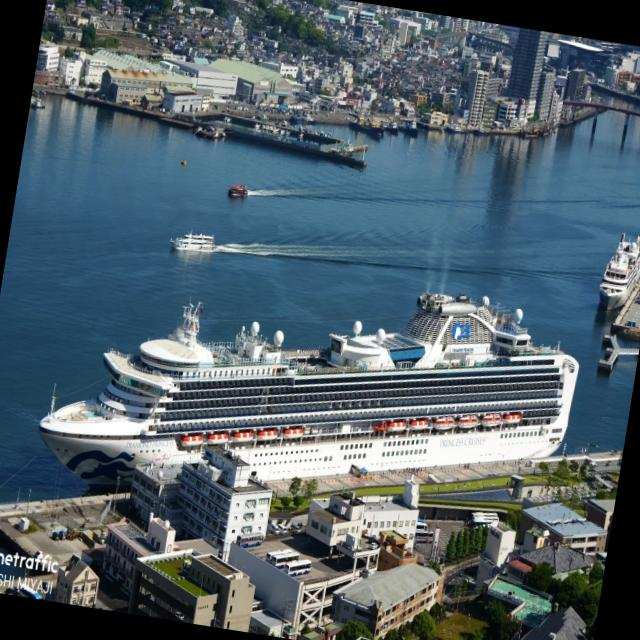Cruise: (39, 294, 579, 486), (599, 234, 640, 310)
Passenger: (171, 232, 214, 252)
